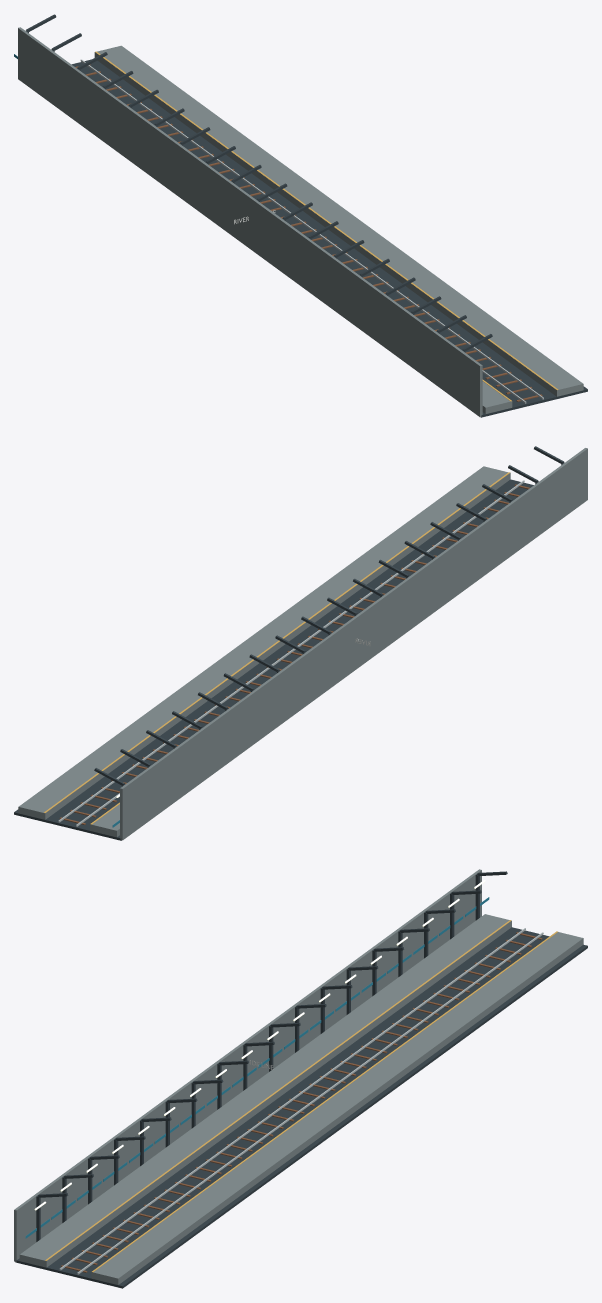
Rendered from metro-tunnel.glb.
The picture shows the model from 3 angles, top to bottom: view 1: azimuth 30°, elevation 25°; view 2: azimuth 150°, elevation 25°; view 3: azimuth 330°, elevation 25°; orthographic projection.
Visible parts, largest first — view 1: Tunnel rear wall, Platform.001, Track slab, Rail.001, Platform safety line.001, Platform; view 2: Tunnel rear wall, Platform.001, Track slab, Rail.001, Platform safety line.001, Platform; view 3: Tunnel rear wall, Track slab, Platform, Platform.001, Rail, Rail.001, Platform safety line, Platform safety line.001.
Part boxes in pixels (x1,y1,x2,y2): Tunnel rear wall: [18, 27, 482, 417]; Platform.001: [94, 45, 583, 396]; Track slab: [71, 59, 587, 417]; Rail.001: [80, 59, 543, 399]; Platform safety line.001: [95, 51, 558, 390]; Platform: [482, 381, 512, 413]; Tunnel rear wall: [120, 448, 587, 840]; Platform.001: [18, 466, 510, 819]; Track slab: [14, 479, 533, 840]; Rail.001: [58, 480, 524, 822]; Platform safety line.001: [44, 472, 510, 812]; Platform: [90, 804, 119, 837]; Tunnel rear wall: [14, 869, 481, 1261]; Track slab: [15, 927, 587, 1288]; Platform: [19, 914, 511, 1267]; Platform.001: [91, 932, 583, 1284]; Rail: [59, 928, 525, 1270]; Rail.001: [77, 932, 543, 1274]; Platform safety line: [45, 920, 511, 1260]; Platform safety line.001: [92, 931, 557, 1272].
Size of the model in its own units: 13.83 by 6.55 by 91.33.
